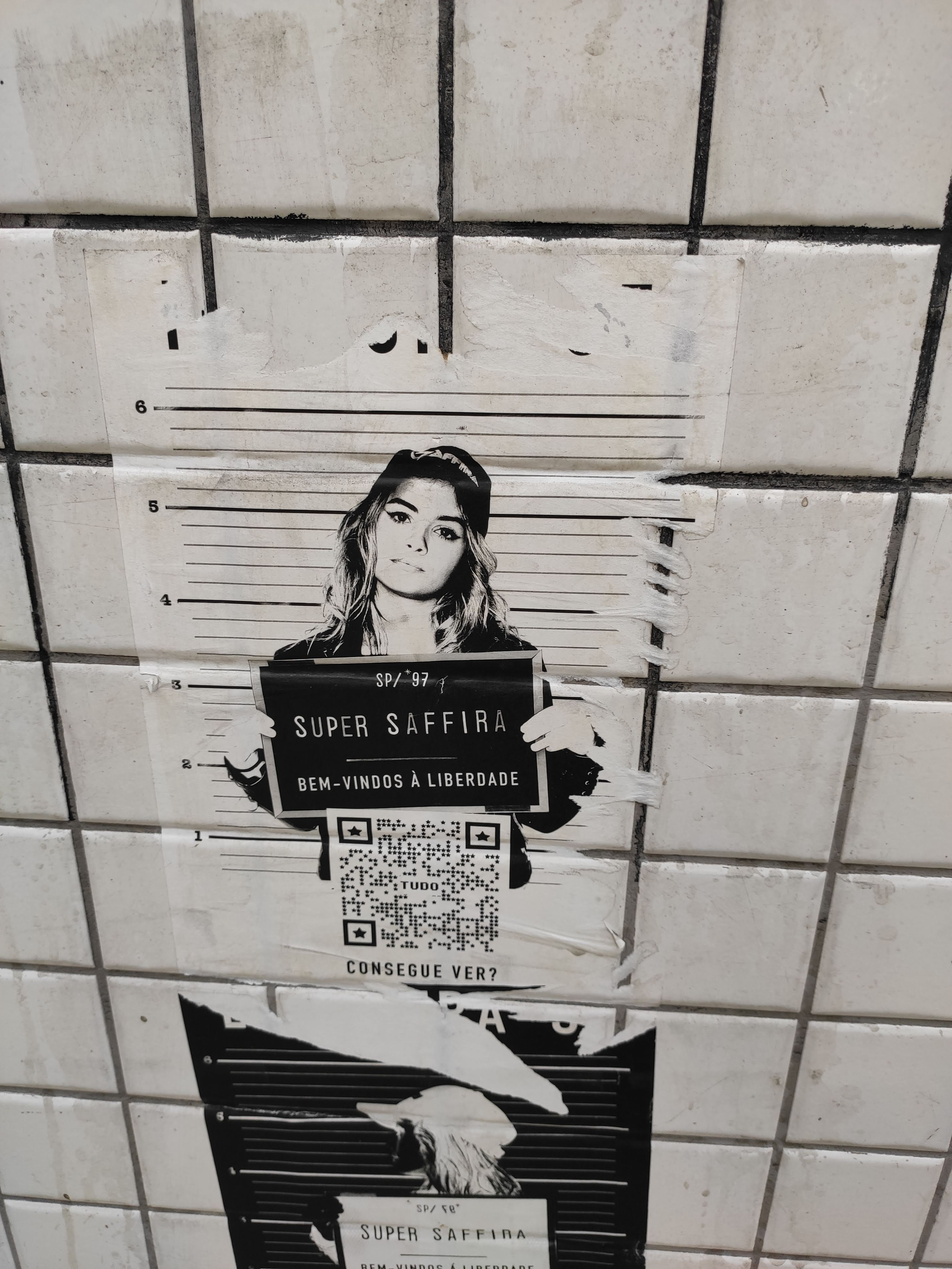QR-CODE: (337, 816, 500, 952)
